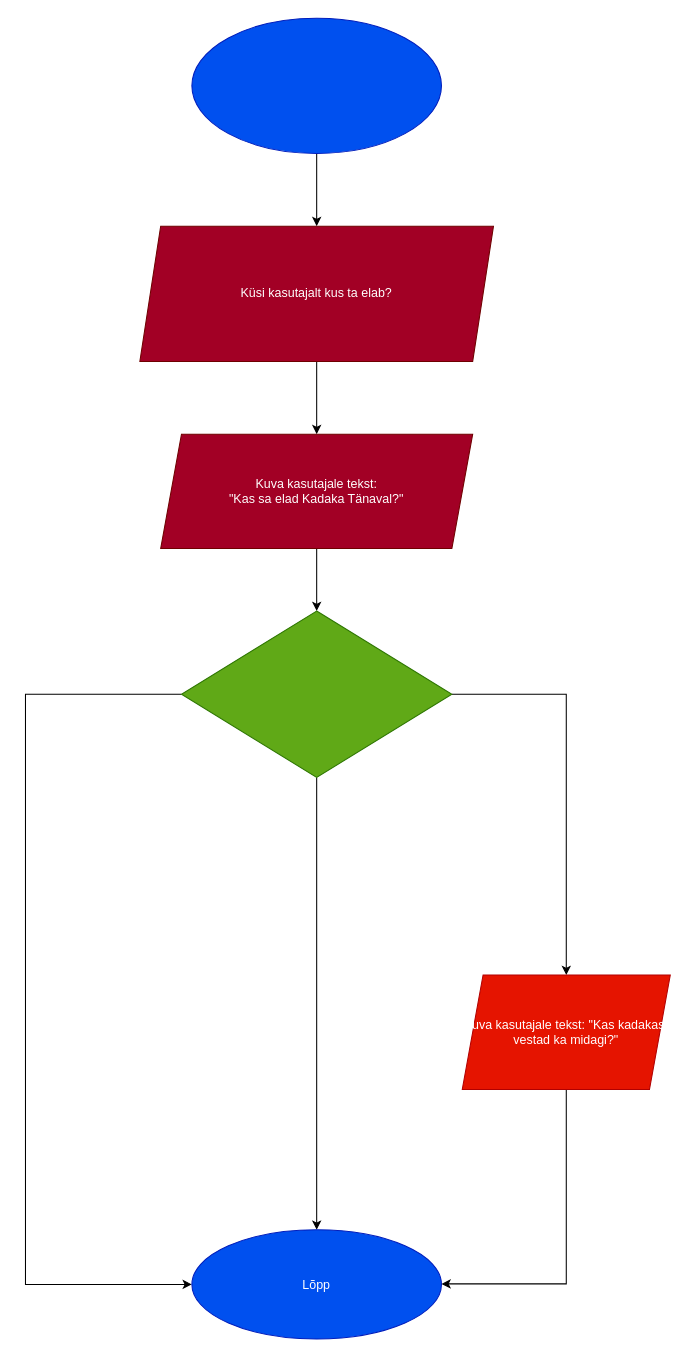
This 688x1357 diagram has some shape labels left out. The shapes that lost their labels are listed below. From the top down, each one's centre as x and y in pixels, then its label:
point (316, 85): Algus
point (316, 693): Kas vastus on "Jah?"
